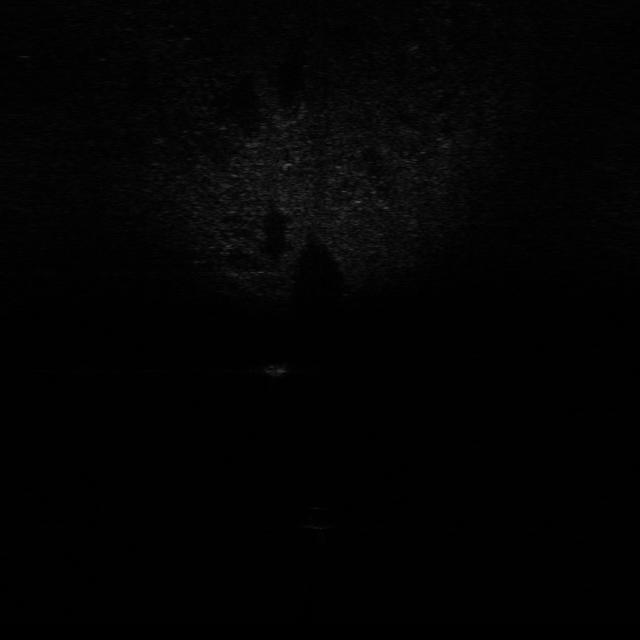ball: (293, 502, 341, 530)
cube: (259, 355, 293, 378)
